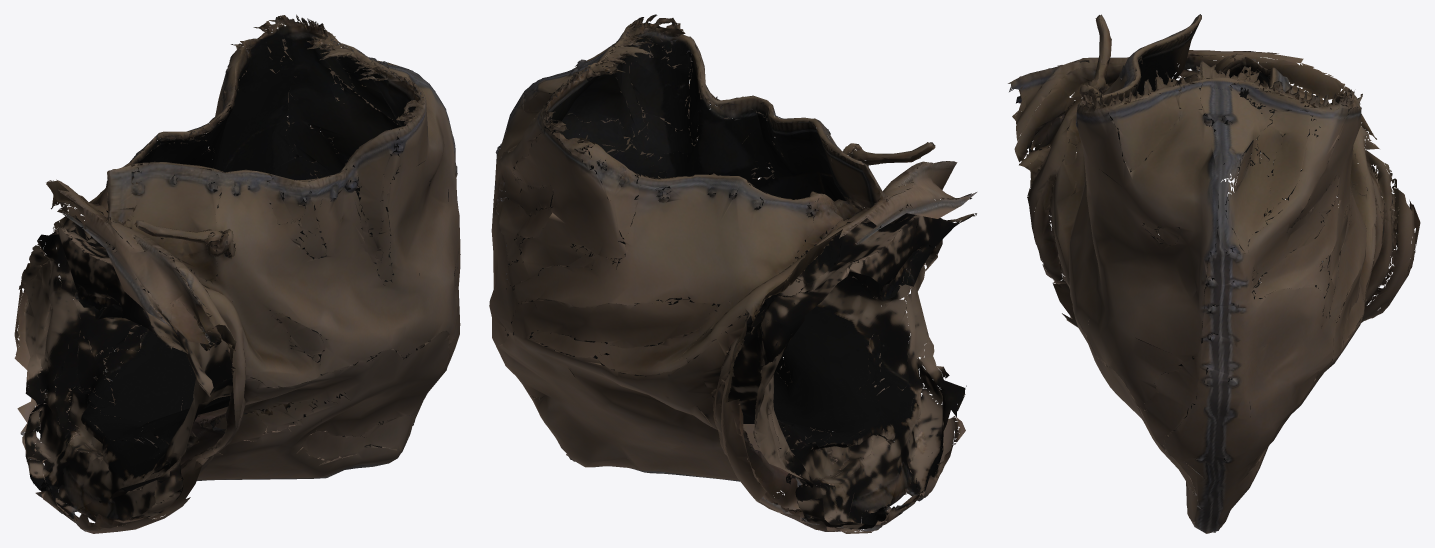
The model's file is helmet0.fbx.
3 renders of one model, left to right at view 1: azimuth 30°, elevation 25°; view 2: azimuth 150°, elevation 25°; view 3: azimuth 270°, elevation 25°, orthographic. The views are drawn at different scales.
Parts seen in each view (by area): view 1: Mesh_0; view 2: Mesh_0; view 3: Mesh_0.
Part boxes in pixels (x1,y1,x2,y2): Mesh_0: (14,14,460,533); Mesh_0: (489,14,976,533); Mesh_0: (1008,14,1420,533).
Size of the model in its own units: 38.67 by 39.48 by 33.27.
1 material, 1 textured.
